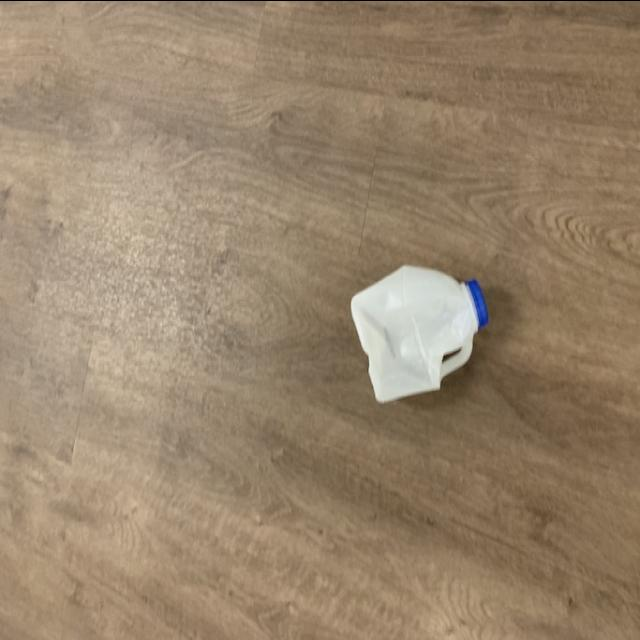HDPEM: (345, 264, 497, 404)
